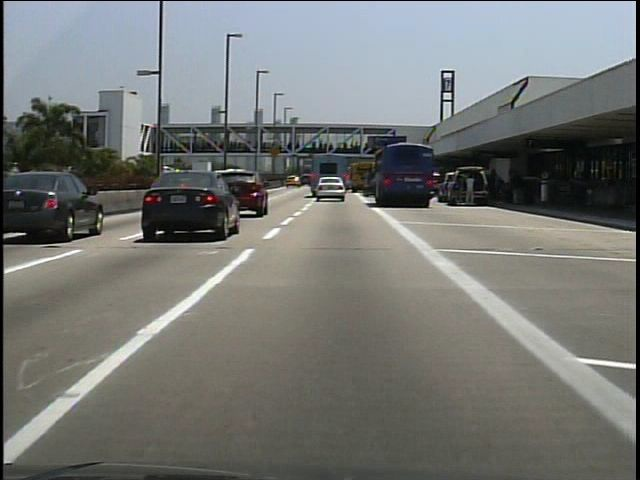person: (510, 170, 526, 211), (464, 171, 478, 210)
